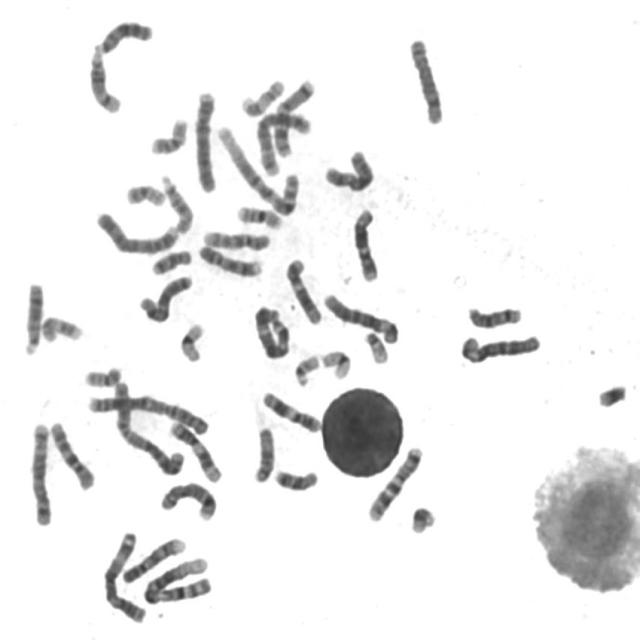A1: (213, 119, 302, 218), (138, 552, 214, 606)
A2: (108, 376, 186, 477), (83, 388, 212, 437)
A3: (98, 526, 149, 624), (249, 301, 292, 360)
B4: (91, 205, 182, 256), (190, 85, 220, 194)
B5: (253, 106, 312, 177), (24, 416, 54, 527)
C10: (45, 415, 97, 492), (199, 224, 273, 253)
C11: (165, 416, 223, 484), (258, 386, 323, 434)
C12: (282, 254, 324, 326), (348, 203, 382, 283)
C6: (319, 288, 402, 346), (456, 328, 544, 365)
C7: (363, 441, 425, 523), (270, 73, 318, 159)
C8: (404, 32, 446, 126), (156, 476, 218, 522)
C9: (118, 532, 188, 586), (194, 240, 265, 279)
D13: (90, 14, 155, 55), (19, 276, 45, 357)
D14: (84, 46, 124, 115), (463, 300, 524, 330)
D15: (156, 168, 196, 236), (248, 422, 276, 484)
E16: (146, 112, 190, 156), (232, 200, 285, 230)
E17: (236, 74, 287, 118), (37, 310, 84, 345)
E18: (147, 244, 194, 276), (270, 464, 320, 493)
F19: (175, 318, 207, 364), (317, 345, 353, 381)
F20: (121, 178, 167, 208), (79, 360, 124, 388)
G21: (593, 377, 630, 410), (405, 500, 438, 536)
G22: (290, 350, 322, 388), (360, 327, 390, 365)
X: (134, 270, 195, 324), (319, 144, 377, 194)
